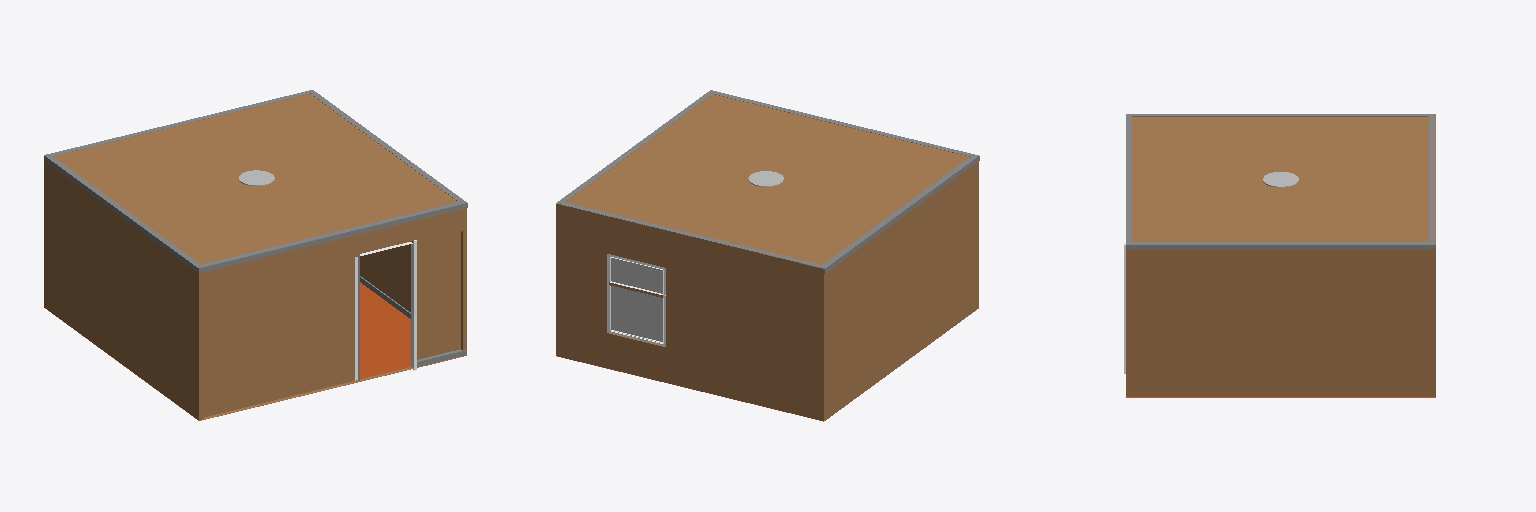
The model's file is bedroom6.obj.
3 renders of one model, left to right at view 1: azimuth 30°, elevation 25°; view 2: azimuth 150°, elevation 25°; view 3: azimuth 270°, elevation 25°, orthographic.
Visible parts, largest first — view 1: Plane.002_Plane.003, Cube.001_Cube.004, Cube.002_Cube.008, Plane_Plane.001, Cube.003_Cube.007, Cube.013_Cube.018, Cube.004_Cube.009, Cube.005_Cube.010, Cube.006_Cube.011; view 2: Plane.002_Plane.003, Cube_Cube.003, Cube.002_Cube.008, Plane.001_Plane.002, Cube.004_Cube.009, Cube.013_Cube.018, Cube.006_Cube.011, Cube.005_Cube.010, Cube.003_Cube.007; view 3: Cube.003_Cube.007, Plane.002_Plane.003, Cube.005_Cube.010, Cube.004_Cube.009, Cube.006_Cube.011, Cube.013_Cube.018.
Boxes of the visible parts, x1=… form: Plane.002_Plane.003: x1=53, y1=94, x2=457, y2=264; Cube.001_Cube.004: x1=199, y1=208, x2=466, y2=420; Cube.002_Cube.008: x1=44, y1=161, x2=203, y2=420; Plane_Plane.001: x1=45, y1=282, x2=463, y2=420; Cube.003_Cube.007: x1=360, y1=230, x2=466, y2=356; Cube.013_Cube.018: x1=198, y1=202, x2=466, y2=272; Cube.004_Cube.009: x1=44, y1=154, x2=202, y2=273; Cube.005_Cube.010: x1=308, y1=90, x2=467, y2=207; Cube.006_Cube.011: x1=48, y1=91, x2=309, y2=156; Plane.002_Plane.003: x1=563, y1=94, x2=968, y2=267; Cube_Cube.003: x1=560, y1=205, x2=819, y2=419; Cube.002_Cube.008: x1=819, y1=162, x2=978, y2=420; Plane.001_Plane.002: x1=611, y1=258, x2=662, y2=341; Cube.004_Cube.009: x1=819, y1=156, x2=979, y2=273; Cube.013_Cube.018: x1=710, y1=90, x2=978, y2=157; Cube.006_Cube.011: x1=557, y1=201, x2=823, y2=267; Cube.005_Cube.010: x1=556, y1=90, x2=715, y2=204; Cube.003_Cube.007: x1=556, y1=204, x2=560, y2=356; Cube.003_Cube.007: x1=1126, y1=245, x2=1435, y2=396; Plane.002_Plane.003: x1=1132, y1=114, x2=1435, y2=244; Cube.005_Cube.010: x1=1126, y1=242, x2=1434, y2=249; Cube.004_Cube.009: x1=1126, y1=114, x2=1434, y2=116; Cube.006_Cube.011: x1=1429, y1=116, x2=1434, y2=244; Cube.013_Cube.018: x1=1126, y1=116, x2=1131, y2=244.
Size of the model in its own units: 10.03 by 5.52 by 10.04.